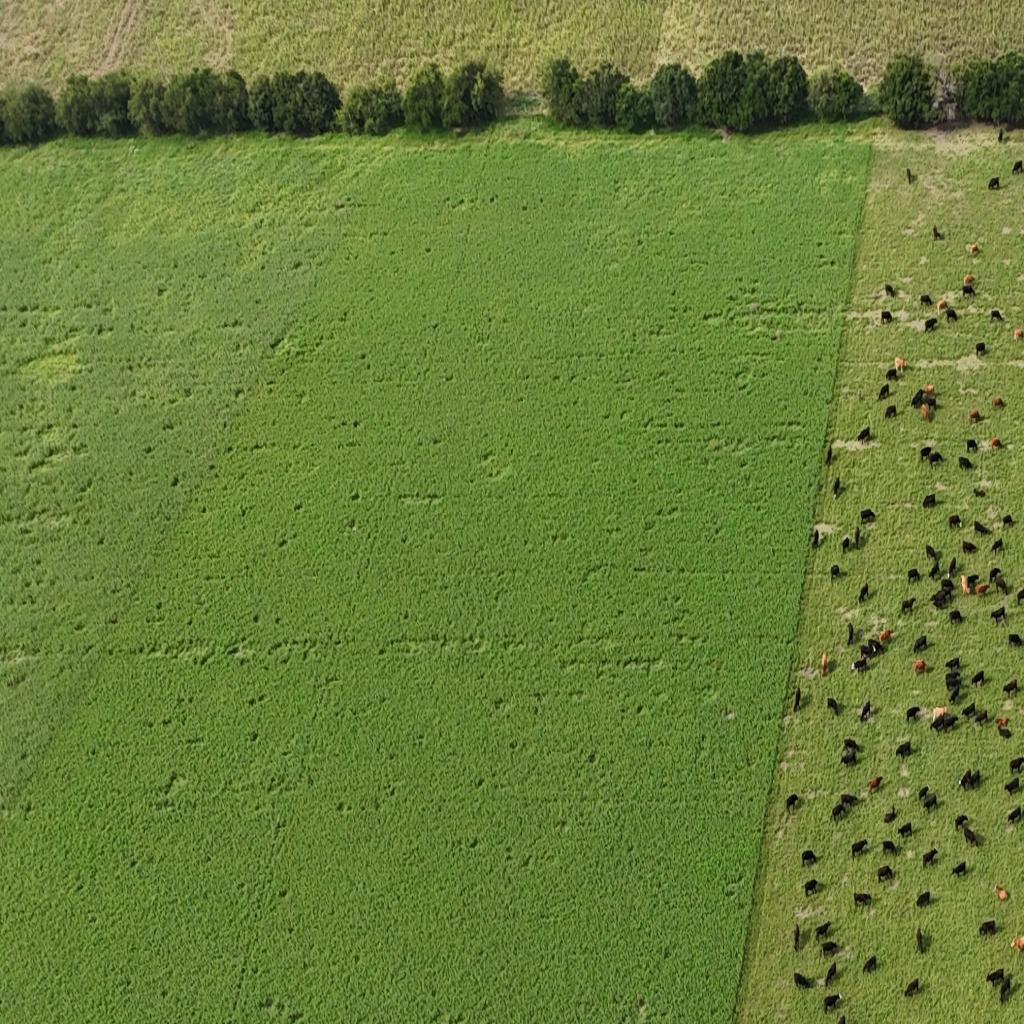cow: (999, 974, 1016, 1004), (963, 826, 983, 848), (930, 590, 950, 610), (794, 970, 813, 989), (823, 992, 841, 1012), (820, 940, 840, 958), (895, 740, 913, 760), (840, 748, 858, 768), (958, 769, 974, 791), (815, 922, 833, 941), (824, 960, 837, 986), (995, 575, 1010, 597), (986, 968, 1004, 986), (853, 892, 872, 909), (1003, 777, 1020, 796), (851, 839, 868, 858), (922, 847, 938, 867), (922, 792, 938, 812), (990, 605, 1006, 625), (802, 849, 818, 868), (916, 890, 932, 909), (804, 878, 820, 897), (878, 865, 894, 884), (904, 976, 919, 996), (832, 803, 847, 823), (968, 768, 982, 789), (947, 684, 961, 705), (1003, 680, 1020, 697), (859, 700, 872, 722), (863, 955, 878, 974), (913, 635, 928, 654), (910, 389, 925, 408), (1005, 808, 1020, 827), (786, 794, 800, 814), (828, 696, 842, 716), (979, 920, 996, 936), (882, 840, 898, 857), (867, 776, 882, 794), (932, 705, 947, 723), (928, 560, 941, 580), (860, 508, 876, 524), (852, 657, 868, 673), (974, 520, 990, 536), (929, 450, 944, 467), (989, 567, 1004, 584), (952, 860, 966, 878), (944, 716, 958, 734), (926, 544, 940, 562), (868, 640, 882, 658), (994, 886, 1009, 902), (939, 578, 954, 594), (945, 656, 961, 671), (902, 598, 916, 615), (883, 807, 897, 824), (841, 794, 858, 808), (975, 708, 989, 725), (991, 537, 1004, 555), (925, 390, 938, 408), (914, 659, 929, 674), (963, 540, 978, 555), (857, 426, 871, 442), (944, 308, 958, 324), (906, 706, 920, 722), (949, 610, 963, 626), (898, 822, 912, 838), (955, 814, 969, 830), (971, 670, 985, 686), (844, 738, 858, 754), (962, 702, 976, 718), (918, 785, 931, 802), (858, 582, 868, 604), (960, 574, 970, 596), (916, 926, 924, 953), (959, 456, 973, 471), (997, 724, 1011, 739), (1008, 633, 1022, 648), (930, 716, 945, 730), (948, 514, 961, 530), (860, 644, 873, 660), (920, 447, 932, 464), (832, 477, 841, 499), (924, 318, 938, 332), (886, 368, 900, 382), (962, 284, 976, 298), (879, 628, 893, 642), (976, 582, 990, 596), (966, 573, 979, 588), (884, 404, 896, 420), (878, 384, 890, 400), (793, 686, 801, 710), (894, 356, 906, 372), (966, 438, 978, 454), (990, 308, 1003, 322), (923, 494, 936, 508), (794, 923, 800, 953), (908, 568, 920, 583), (948, 558, 956, 580), (1015, 755, 1024, 774), (884, 284, 896, 298), (821, 651, 828, 675), (969, 409, 981, 423), (921, 401, 929, 422), (1002, 514, 1014, 528), (847, 623, 854, 646), (988, 177, 1000, 190), (920, 294, 932, 307), (967, 244, 980, 256), (996, 716, 1009, 728), (881, 310, 892, 324), (830, 565, 840, 580), (933, 225, 943, 240), (812, 528, 819, 549), (993, 396, 1005, 408), (990, 438, 1002, 450), (964, 274, 976, 286), (1016, 934, 1024, 952), (973, 486, 986, 497), (976, 342, 986, 356), (854, 526, 860, 549), (842, 537, 850, 553), (906, 168, 914, 184), (938, 300, 948, 312), (924, 384, 934, 396), (826, 444, 832, 464), (1018, 160, 1024, 174), (1019, 588, 1024, 604), (998, 128, 1003, 143), (1018, 328, 1024, 340), (838, 1015, 846, 1024)
